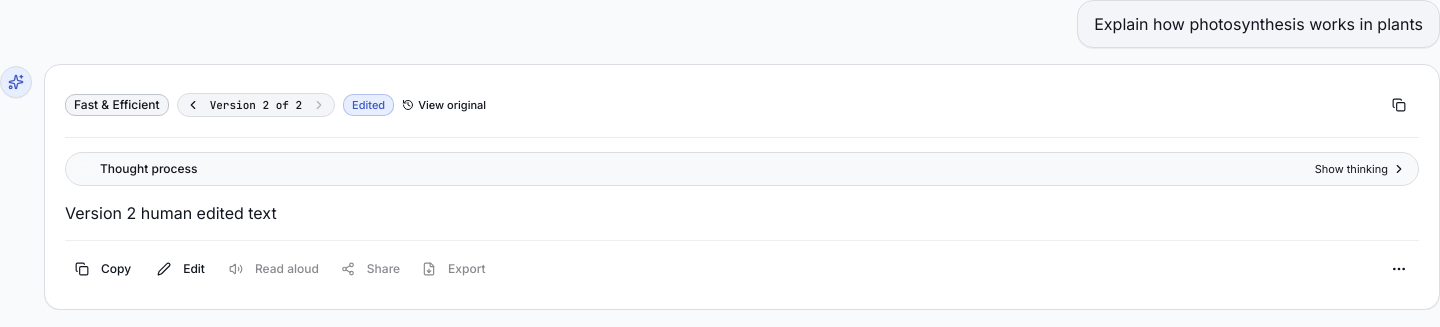
Test: Step 3.7 — Conversation UI (Response cards, versions, thinking, edit) › ResponseCard Component › copies text to clipboard and shows visual feedback
Click the button named "Copy" at (1399, 105), box [1379,85,1419,125]
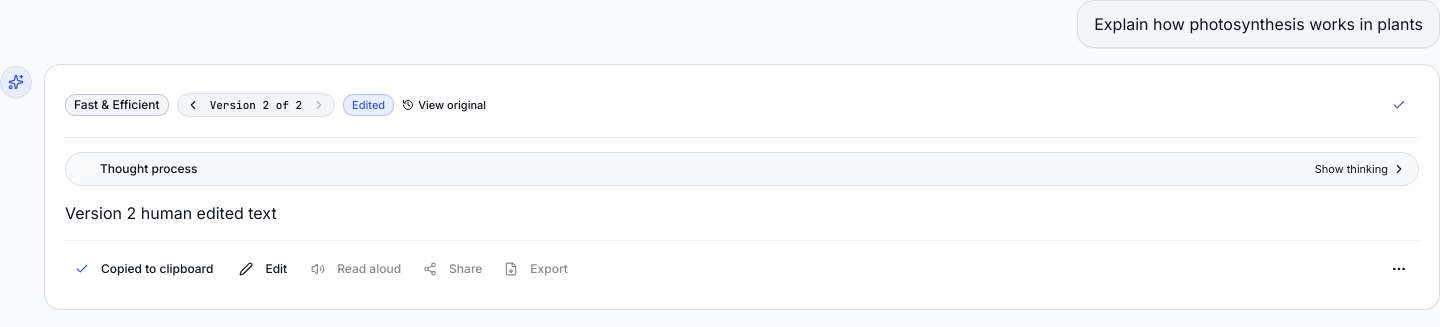
Check: the text "Copied to clipboard" is shown, box [101,261,213,277]
